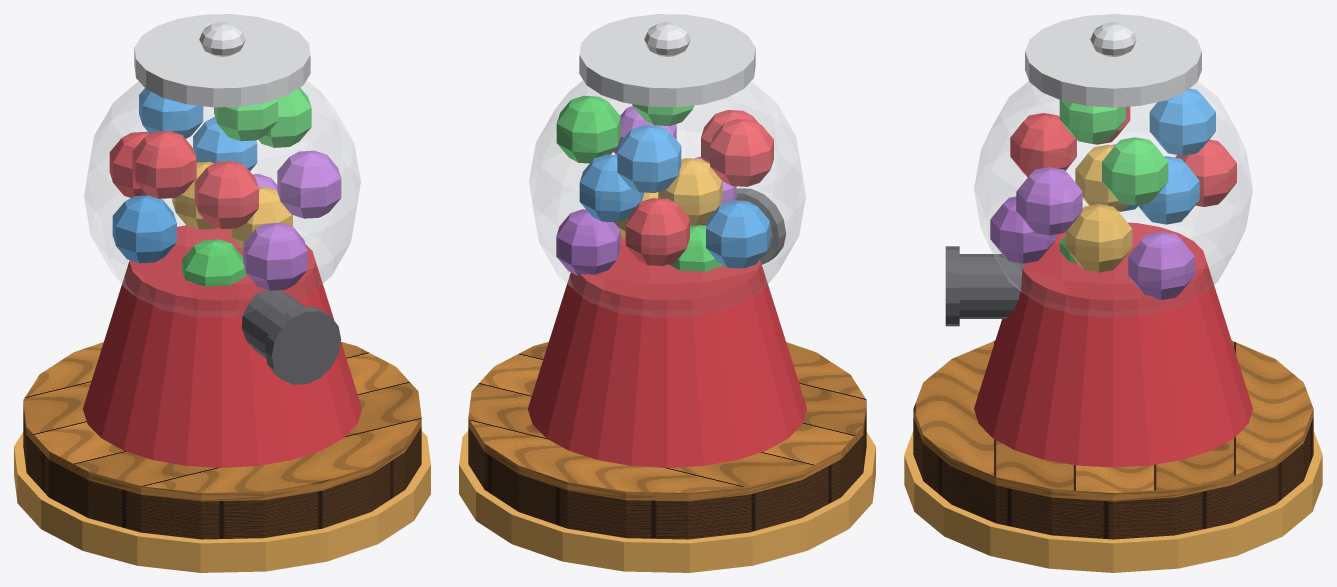
File: Gum.glb
3 views of the same model, side by side, from view 1: azimuth 30°, elevation 25°; view 2: azimuth 150°, elevation 25°; view 3: azimuth 270°, elevation 25° (orthographic).
Parts seen in each view (by area): view 1: Globe, Body, pedestal, rim, Lid, Barrel, Gumball_06, Gumball_14, Gumball_01, Gumball_04, Gumball_02, Gumball_08 (+8 smaller); view 2: Globe, Body, pedestal, rim, Lid, Gumball_11, Gumball_12, Gumball_02, Gumball_06, Gumball_13, Gumball_09, Gumball_07 (+7 smaller); view 3: Globe, Body, pedestal, rim, Lid, Barrel, Gumball_04, Gumball_13, Gumball_09, Gumball_05, Gumball_12, Gumball_01 (+6 smaller).
Part boxes in pixels (x1,y1,x2,y2): Globe: (84,81,360,317); Body: (83,225,361,467); pedestal: (23,342,421,539); rim: (14,431,430,572); Lid: (134,14,310,107); Barrel: (241,289,341,384); Gumball_06: (132,131,196,198); Gumball_14: (243,222,307,290); Gumball_01: (194,161,258,228); Gumball_04: (277,150,341,218); Gumball_02: (112,195,176,263); Gumball_08: (182,239,245,286); Globe: (529,81,805,317); Body: (528,234,806,467); pedestal: (468,342,866,539); rim: (459,431,875,572); Lid: (579,14,755,107); Gumball_11: (625,198,689,265); Gumball_12: (617,125,681,192); Gumball_02: (706,200,769,268); Gumball_06: (710,119,773,186); Gumball_13: (556,95,620,163); Gumball_09: (556,209,620,275); Gumball_07: (579,154,643,222); Globe: (974,81,1252,317); Body: (974,222,1252,467); pedestal: (913,341,1313,539); rim: (904,431,1322,572); Lid: (1025,14,1201,107); Barrel: (945,246,1024,326); Gumball_04: (1016,167,1082,235); Gumball_13: (1102,137,1168,205); Gumball_09: (1128,231,1194,299); Gumball_05: (1066,204,1132,272); Gumball_12: (1149,88,1215,155); Gumball_01: (1010,113,1076,177).
Bounding box in the file's own units: 0.9 × 1.09 × 0.9.
13 materials, 2 textured.
